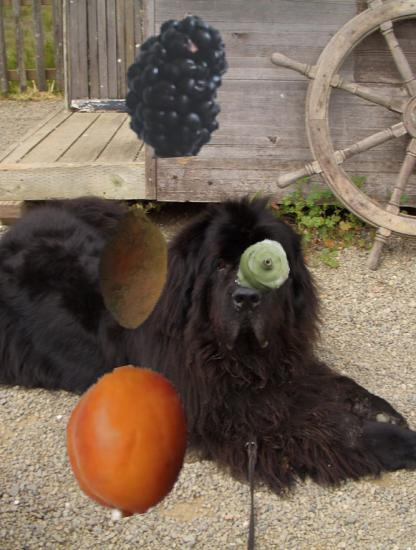Apricot: (54, 367, 202, 515)
Kohlrabi: (233, 239, 290, 296)
Mulberry: (107, 16, 248, 157)
Potato: (70, 206, 196, 332)
